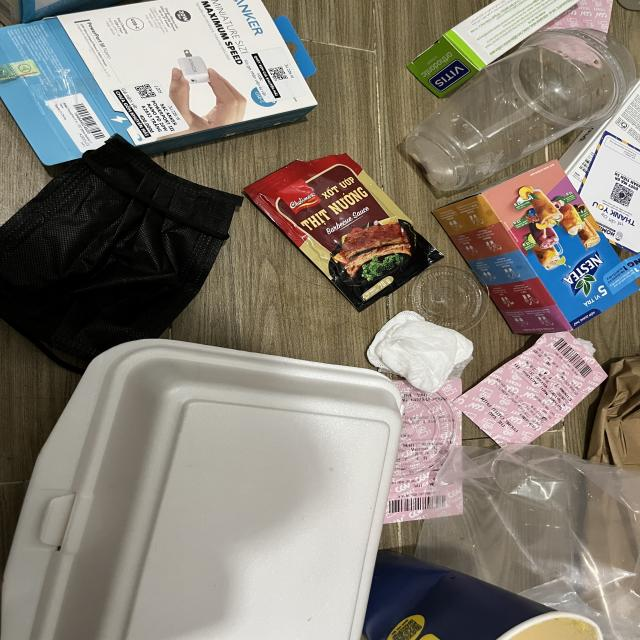bag: (410, 445, 640, 640)
cardboard box: (0, 0, 318, 169), (431, 158, 640, 336), (406, 0, 584, 99), (559, 81, 640, 229)
foam box: (0, 335, 406, 640)
lid: (413, 266, 490, 330)
mask: (0, 131, 244, 374)
napkin: (367, 312, 476, 392)
paper: (453, 329, 608, 454), (383, 378, 463, 524), (583, 131, 640, 256)
plastic glass: (407, 29, 640, 188), (362, 544, 602, 640)
snack package: (245, 152, 441, 314)
